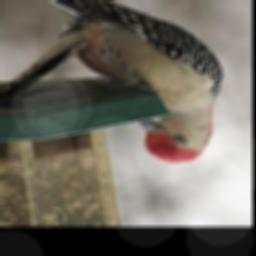Woodpecker: (18, 0, 221, 164)
